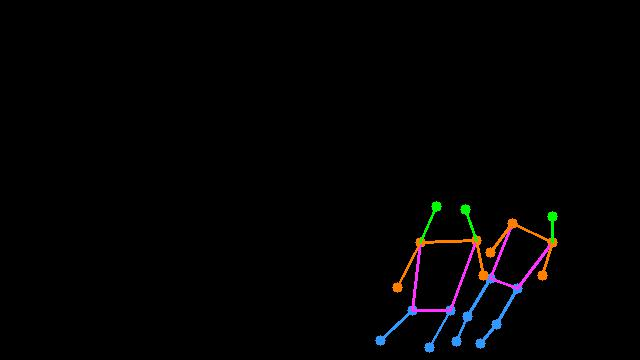normal: (358, 172, 565, 360)
